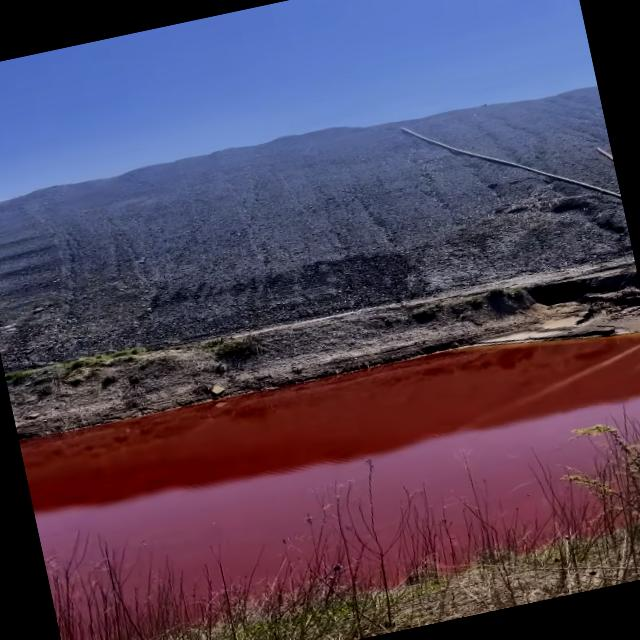yellow_boy: (20, 333, 640, 575)
